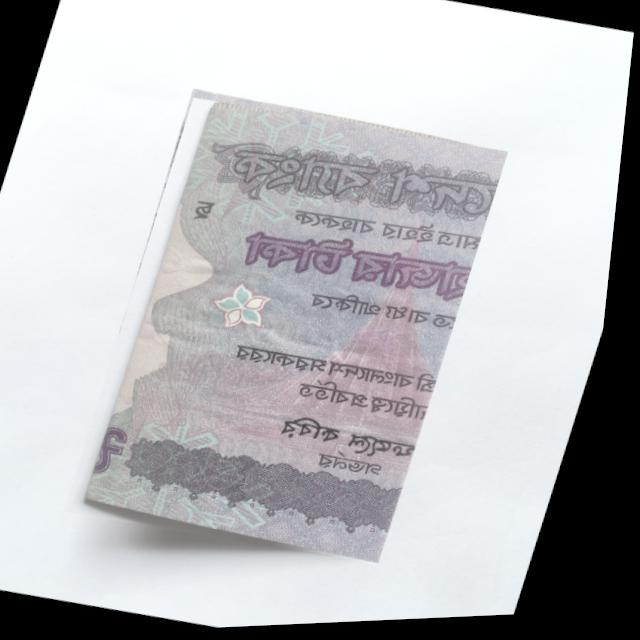Taka: (69, 88, 517, 580)
